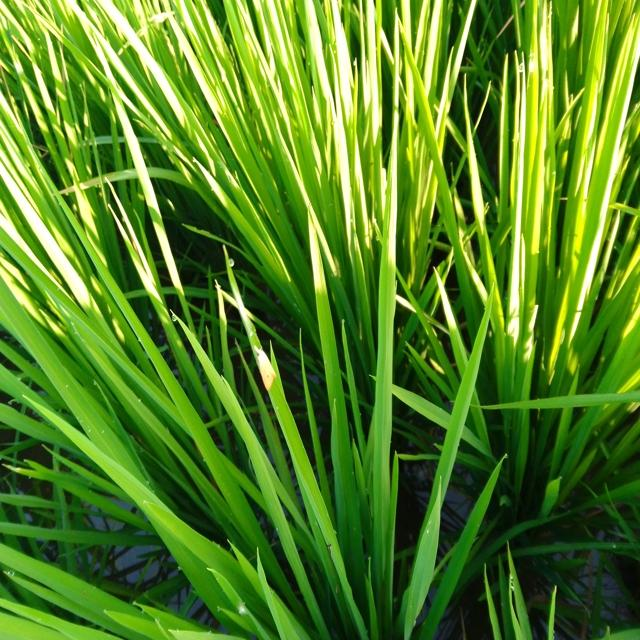Narrow brown: (249, 338, 287, 397)
